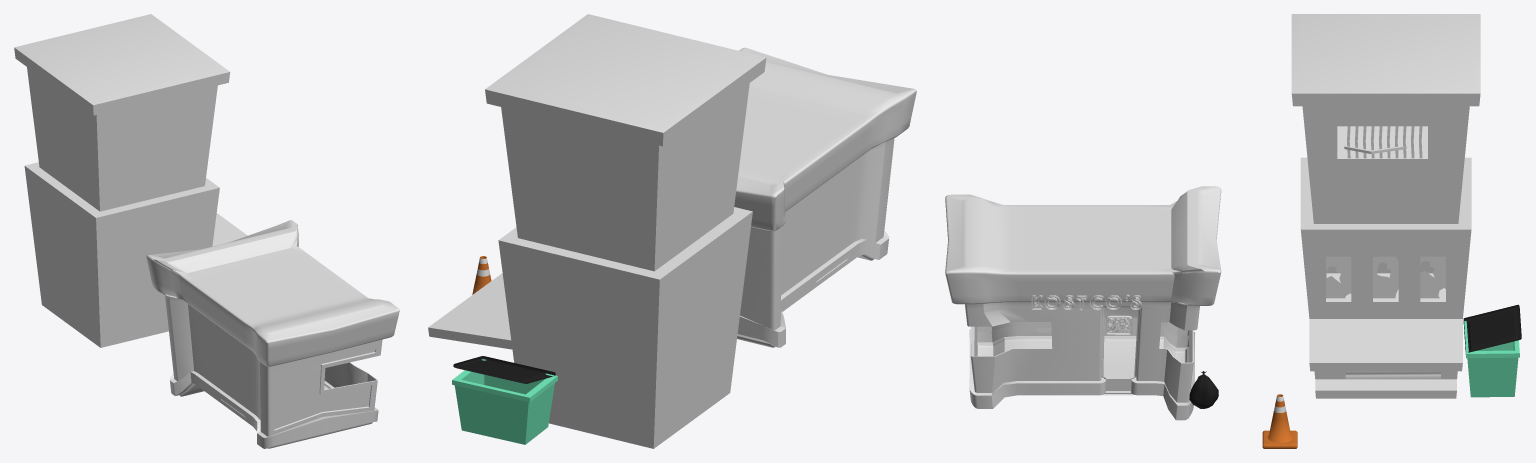
The model's file is Ghetto Slums 2.fbx.
The picture shows the model from 3 angles, left to right: view 1: azimuth 30°, elevation 25°; view 2: azimuth 150°, elevation 25°; view 3: azimuth 270°, elevation 25°; orthographic projection. The views are drawn at different scales.
Parts seen in each view (by area): view 1: Cube.006, Cube.048, Cube.047; view 2: Cube.048, Cube.047, Cube.006, Cube.003, Cube.004; view 3: Cube.006, Cube.048, Cube.047, Cube.003, Cube.004, traffic cone.001, Cube.125, Plane.013, Plane.014, Text.003, Plane.015, Metal_Plate_LOD0.002 (+1 smaller).
Part boxes in pixels (x1,y1,x2,y2): Cube.006: (146,220,399,448); Cube.048: (14,14,230,211); Cube.047: (24,162,247,347); Cube.048: (485,14,766,271); Cube.047: (428,207,752,448); Cube.006: (734,47,916,347); Cube.003: (452,359,557,444); Cube.004: (453,356,555,383); Cube.006: (945,186,1221,420); Cube.048: (1291,14,1480,223); Cube.047: (1300,157,1471,398); Cube.003: (1464,321,1519,397); Cube.004: (1463,304,1521,352); traffic cone.001: (1262,394,1297,448); Cube.125: (1347,126,1422,158); Plane.013: (1326,256,1351,298); Plane.014: (1373,256,1398,298); Text.003: (1031,294,1142,310); Plane.015: (1420,256,1445,298); Metal_Plate_LOD0.002: (1345,371,1440,379).
Bounding box in the file's own units: 557 × 603 × 991.
